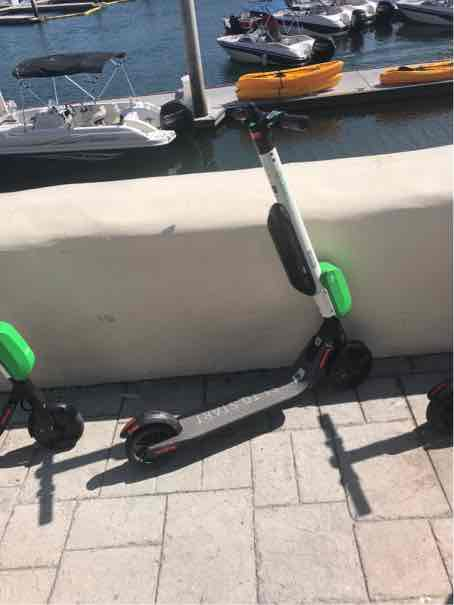scooter: (112, 94, 370, 477)
